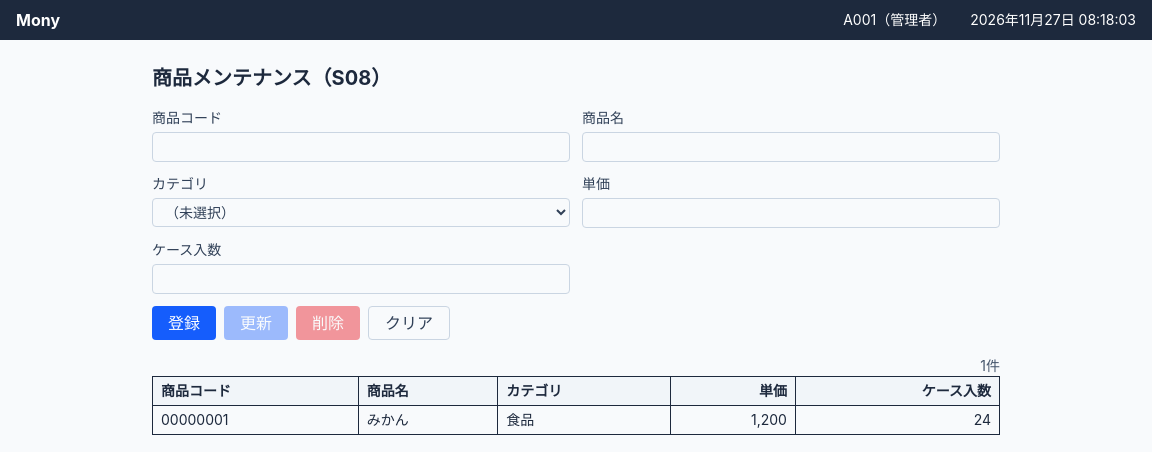
Test case: 行の選択 › クリアで選択と入力が消え、商品コードがまた編集できる
Expected: the heading "商品メンテナンス（S08）" is shown, [152,66,391,90]
Click the text "みかん": click(428, 420) [358,406,498,434]
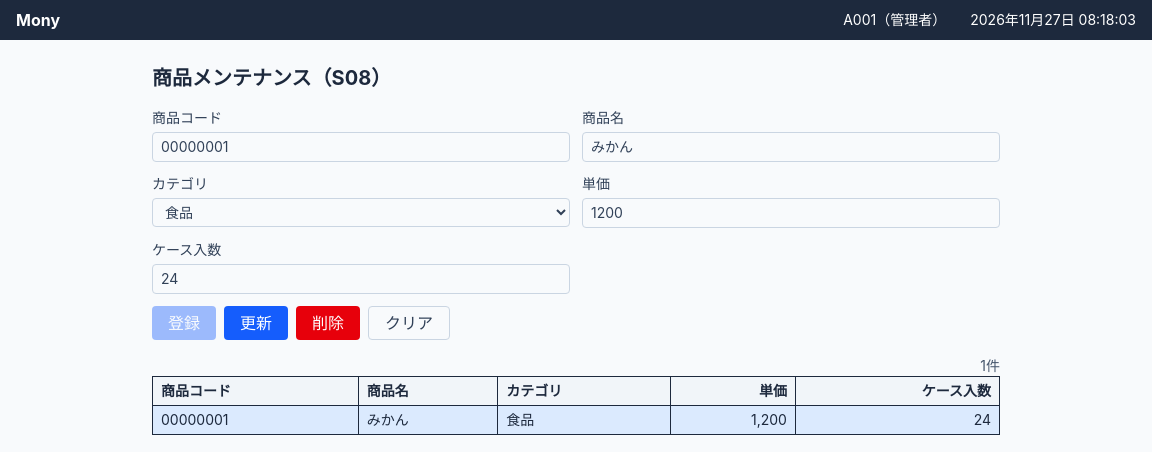
Click the button "クリア": click(409, 323) [368,306,450,340]
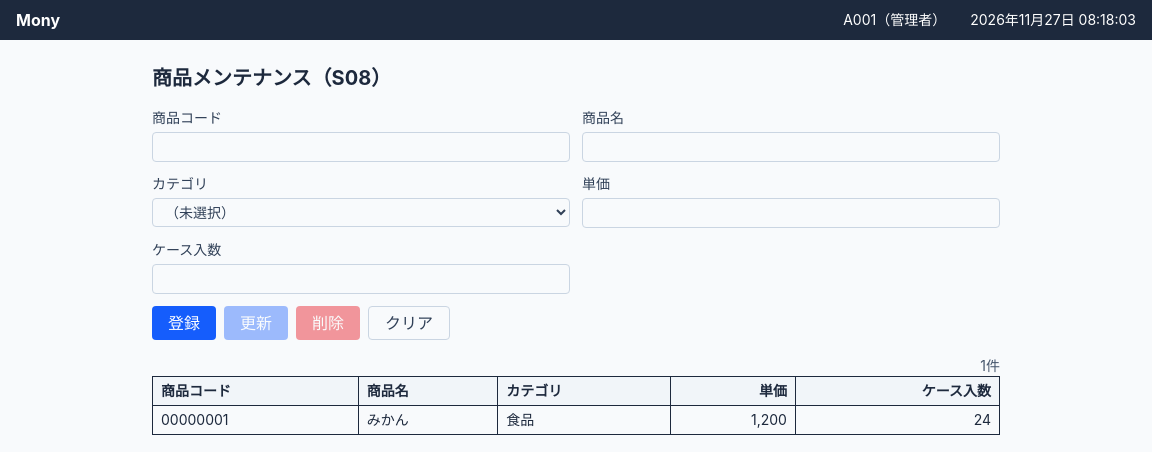
Result: the field labelled "商品コード" is empty at [152,132,570,162]
Result: the field labelled "商品コード" is enabled at [152,132,570,162]
Result: the button "更新" is disabled at [224,306,288,340]
